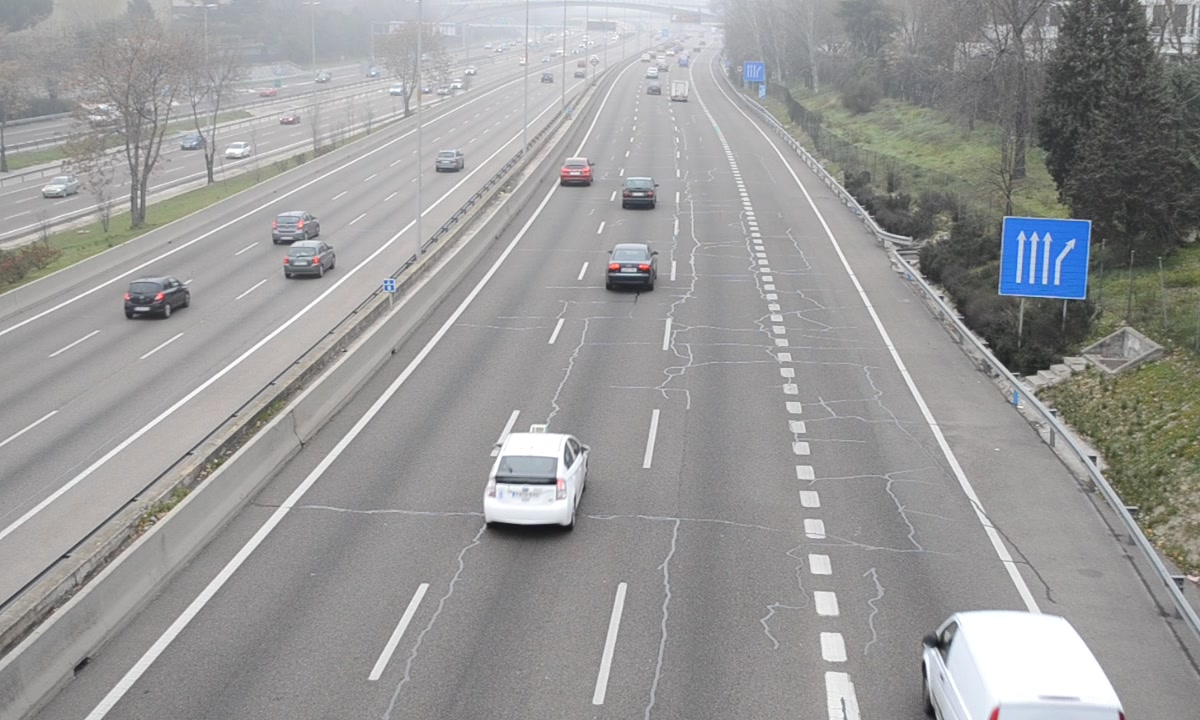car: (483, 434, 587, 527), (606, 243, 654, 286), (621, 176, 658, 211), (559, 156, 594, 186)
van: (923, 609, 1125, 719)
